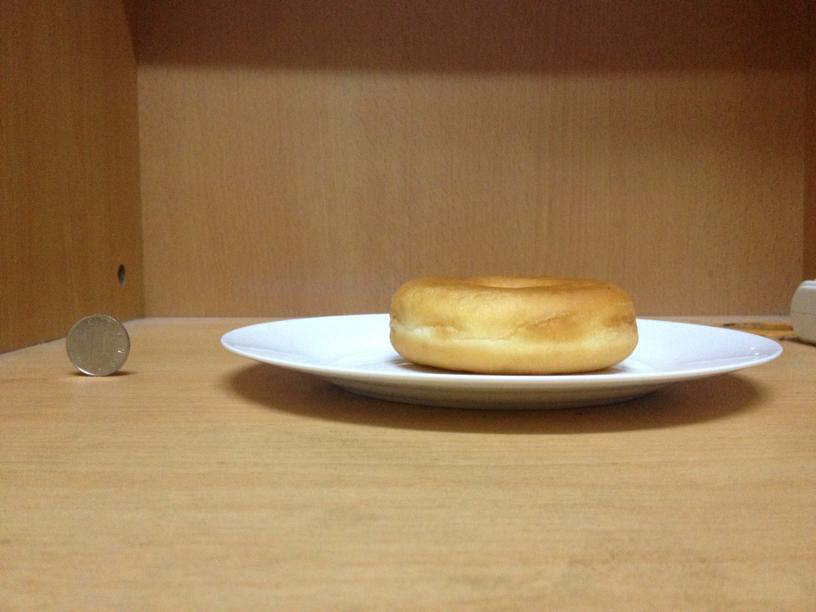coin: (65, 313, 130, 377)
doughnut: (387, 273, 640, 372)
